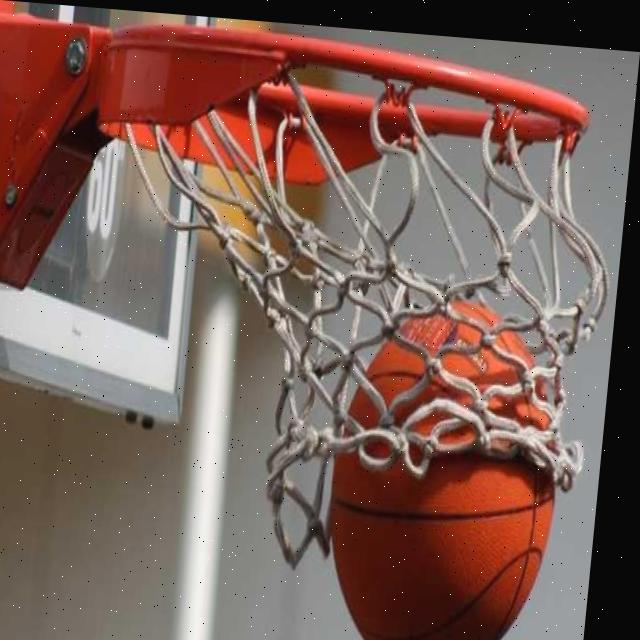basketball: (315, 285, 577, 640)
hoop: (80, 18, 633, 640), (89, 16, 635, 602)
